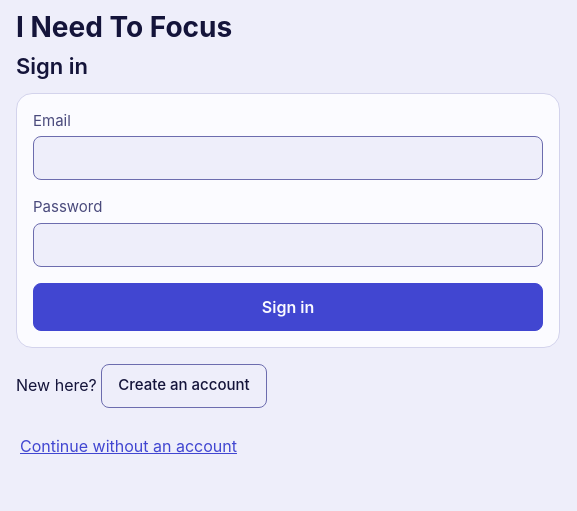
it: AuthGate › shows the Retry-After wait when locked out
Check: the heading "Sign in" is shown, box [16,53,88,79]
Type "a@b.co" into the field labelled "Email".
click(288, 158); type("a@b.co")  # box [33,136,543,180]
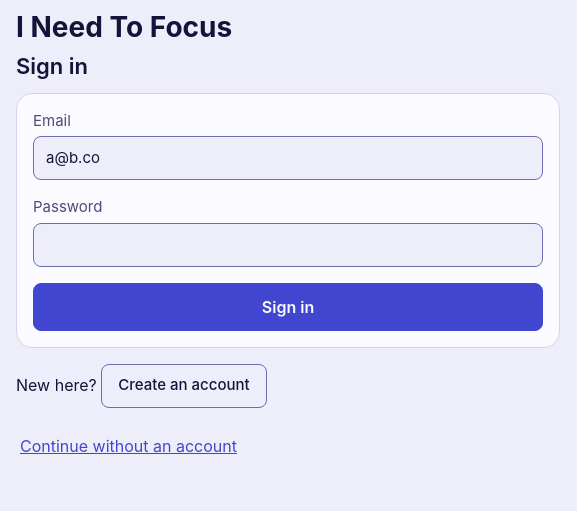
Type "password1" into the password field labelled "Password".
click(288, 244); type("password1")  # box [33,222,543,266]
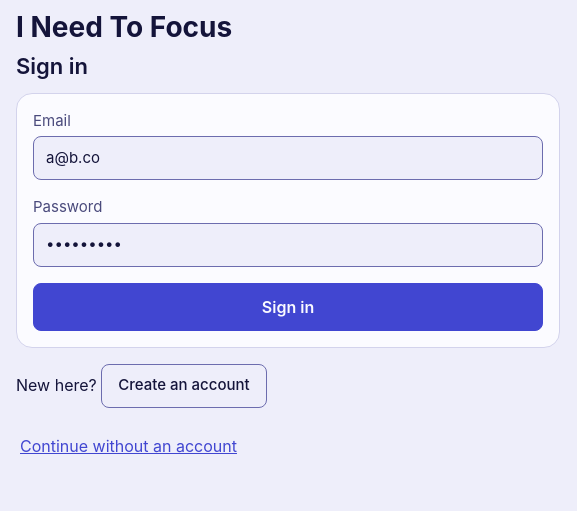
Click the button "Sign in".
click(288, 306)  # box [33,282,543,330]
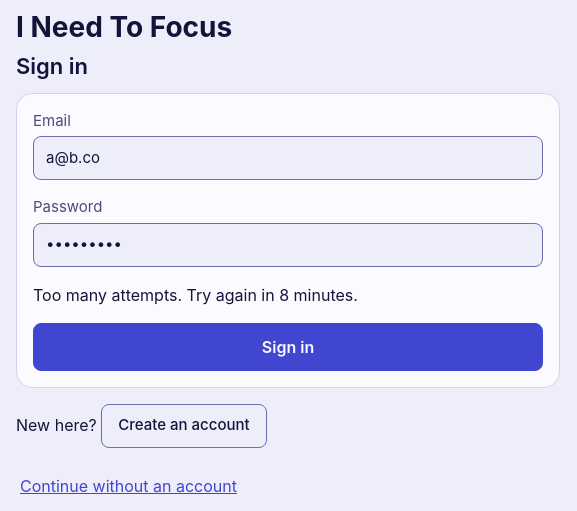
Check: the text "Too many attempts. Try again in 8 minutes." is shown, box [33,284,358,304]
